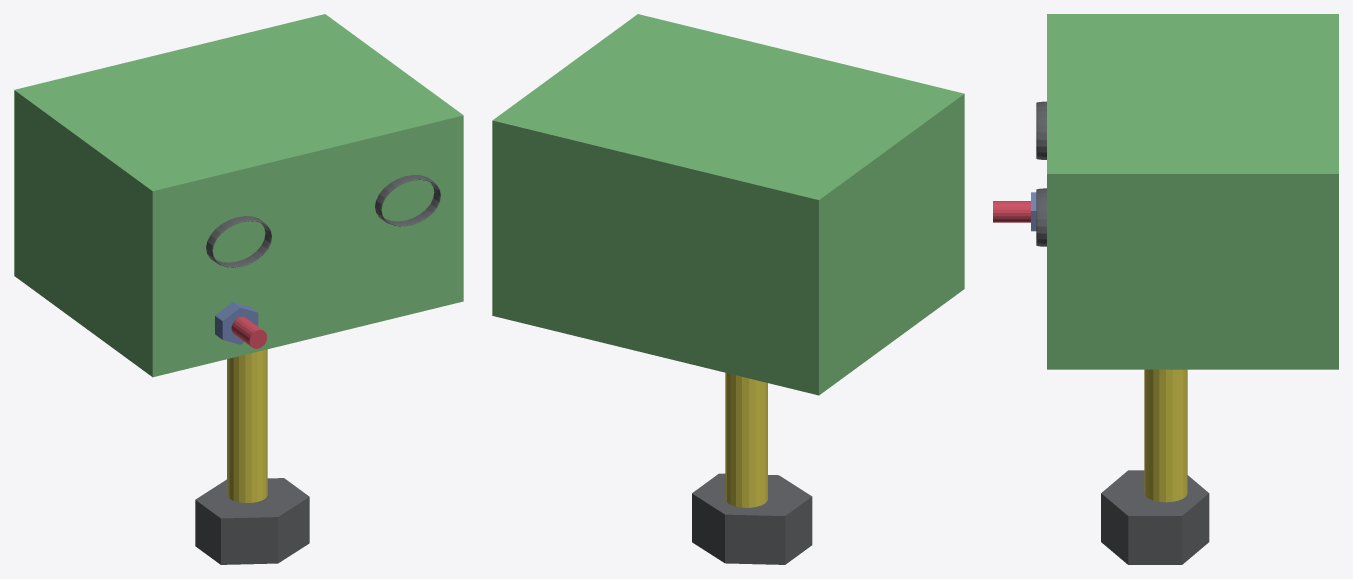
File: controller.glb
3 views of the same model, side by side, from view 1: azimuth 30°, elevation 25°; view 2: azimuth 150°, elevation 25°; view 3: azimuth 270°, elevation 25° (orthographic). The views are drawn at different scales.
Parts seen in each view (by area): view 1: Mesh_Mesh_head_geo.001_lambert2SG.001; view 2: Mesh_Mesh_head_geo.001_lambert2SG.001; view 3: Mesh_Mesh_head_geo.001_lambert2SG.001.
Part boxes in pixels (left/top/right/bottom): Mesh_Mesh_head_geo.001_lambert2SG.001: left=14, top=14, right=463, bottom=564; Mesh_Mesh_head_geo.001_lambert2SG.001: left=492, top=14, right=964, bottom=564; Mesh_Mesh_head_geo.001_lambert2SG.001: left=993, top=14, right=1338, bottom=564.
Bounding box in the file's own units: 35 × 46 × 32.
